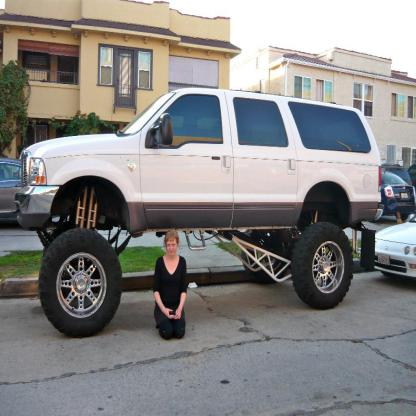Car: (14, 86, 382, 334), (375, 214, 415, 279), (372, 171, 415, 223), (0, 158, 22, 222)
